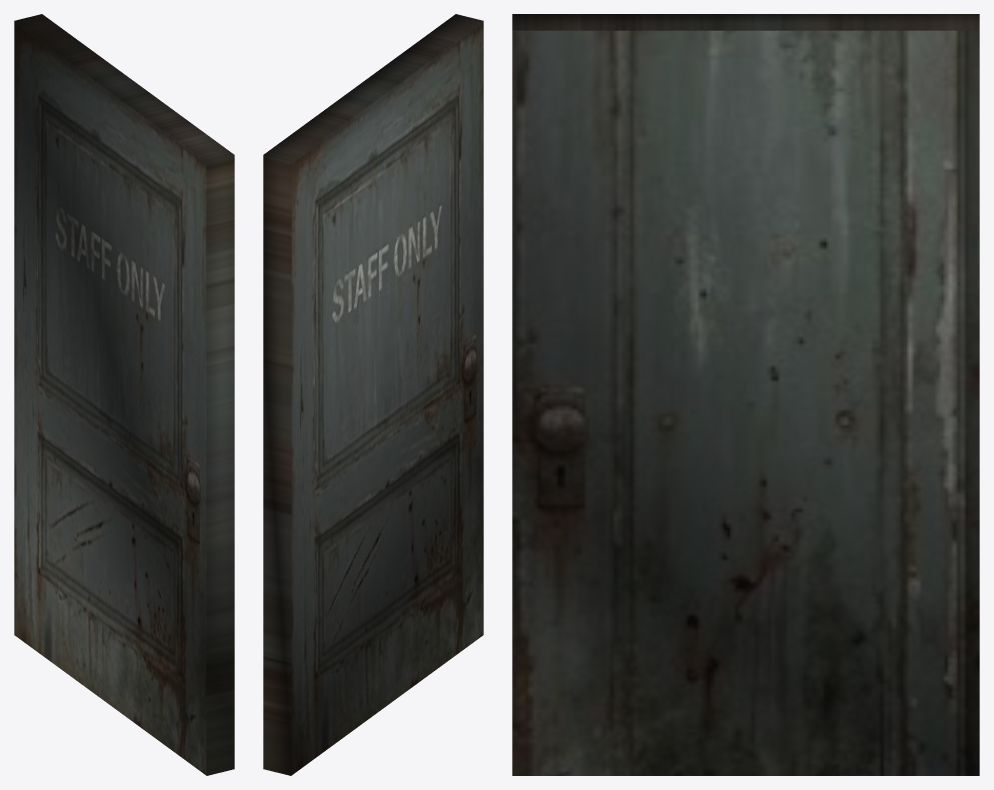
File: Door1.fbx
3 views of the same model, side by side, from view 1: azimuth 30°, elevation 25°; view 2: azimuth 150°, elevation 25°; view 3: azimuth 270°, elevation 25° (orthographic). The views are drawn at different scales.
Parts seen in each view (by area): view 1: Plane.003; view 2: Plane.003; view 3: Plane.003.
Part boxes in pixels (x1=…): Plane.003: x1=14, y1=14, x2=234, y2=775; Plane.003: x1=263, y1=14, x2=483, y2=775; Plane.003: x1=512, y1=14, x2=979, y2=775.
Size of the model in its own units: 18.98 by 398 by 227.
